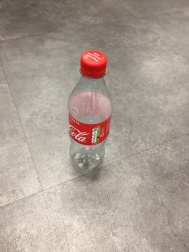bottle_red: (44, 49, 128, 181)
